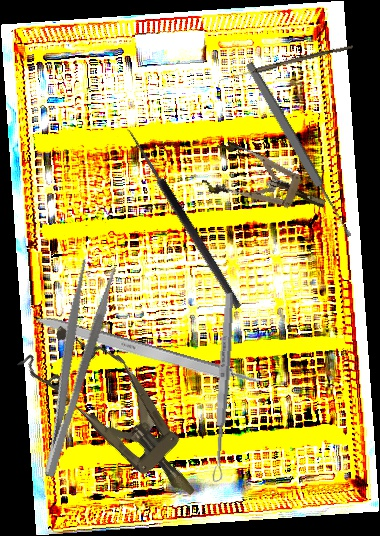Dressing Forceps: (21, 257, 120, 480)
Hook Surgical: (114, 126, 244, 316)
Scalpel Handle: (31, 312, 261, 392)
Speculum: (16, 309, 223, 521), (199, 137, 334, 231)
Surgical Spoon: (243, 60, 355, 240), (218, 42, 354, 84), (210, 291, 236, 483)
